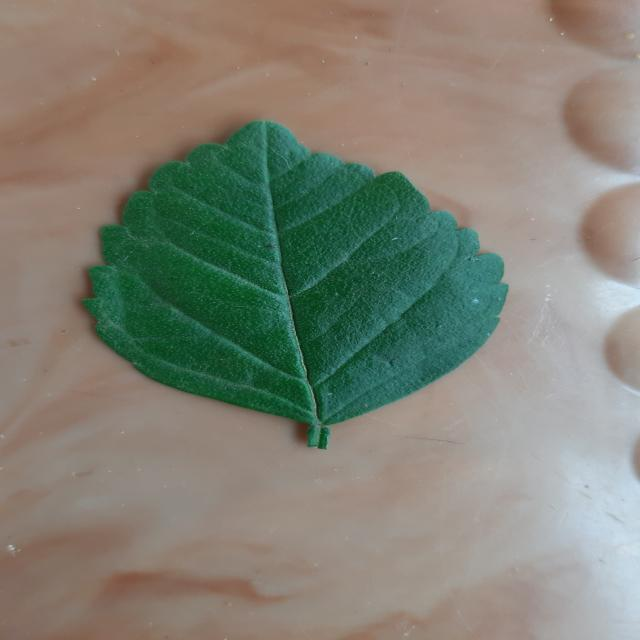tecoma: (84, 121, 507, 449)
